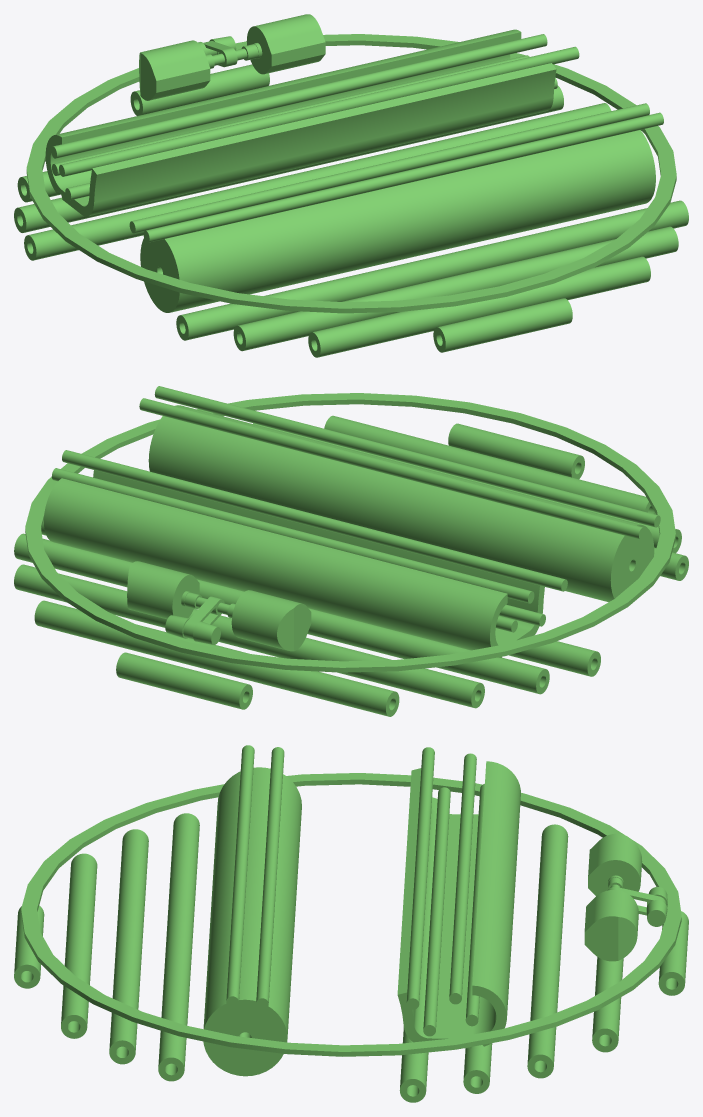
3 renders of one model, top to bottom at view 1: azimuth 30°, elevation 25°; view 2: azimuth 150°, elevation 25°; view 3: azimuth 270°, elevation 25°, orthographic.
Visible parts, largest first — view 1: id21, id121, id71, id6, id56, id46, id31, id106, id101, id111, id116, id36 (+5 smaller); view 2: id121, id21, id71, id81, id91, id16, id101, id106, id116, id46, id111, id51 (+9 smaller); view 3: id121, id21, id71, id6, id91, id56, id46, id106, id116, id101, id111, id96 (+9 smaller).
Boxes of the visible parts, x1=… form: id21: x1=140, y1=130, x2=655, y2=312; id121: x1=45, y1=29, x2=556, y2=216; id71: x1=26, y1=34, x2=676, y2=313; id6: x1=176, y1=200, x2=688, y2=340; id56: x1=233, y1=226, x2=678, y2=351; id46: x1=308, y1=256, x2=650, y2=357; id31: x1=24, y1=103, x2=611, y2=260; id106: x1=143, y1=112, x2=663, y2=242; id101: x1=129, y1=103, x2=649, y2=233; id111: x1=51, y1=34, x2=547, y2=158; id116: x1=59, y1=46, x2=579, y2=176; id36: x1=235, y1=14, x2=325, y2=74; id121: x1=44, y1=470, x2=544, y2=657; id21: x1=148, y1=405, x2=654, y2=602; id71: x1=25, y1=393, x2=675, y2=672; id81: x1=14, y1=533, x2=549, y2=694; id91: x1=14, y1=564, x2=484, y2=708; id16: x1=34, y1=600, x2=399, y2=716; id101: x1=139, y1=398, x2=645, y2=539; id106: x1=154, y1=386, x2=660, y2=527; id116: x1=62, y1=450, x2=567, y2=591; id46: x1=324, y1=415, x2=655, y2=514; id111: x1=51, y1=468, x2=534, y2=603; id51: x1=217, y1=590, x2=311, y2=651; id121: x1=397, y1=761, x2=520, y2=1048; id21: x1=203, y1=767, x2=301, y2=1076; id71: x1=21, y1=773, x2=681, y2=1056; id6: x1=158, y1=813, x2=199, y2=1081; id91: x1=527, y1=824, x2=568, y2=1078; id56: x1=109, y1=829, x2=148, y2=1064; id46: x1=61, y1=853, x2=97, y2=1038; id106: x1=226, y1=745, x2=254, y2=1007; id116: x1=406, y1=747, x2=434, y2=1009; id101: x1=256, y1=747, x2=284, y2=1009; id111: x1=449, y1=753, x2=476, y2=1004; id96: x1=423, y1=787, x2=450, y2=1036.
Size of the model in its own units: 0.8013 by 0.1183 by 0.8108.
